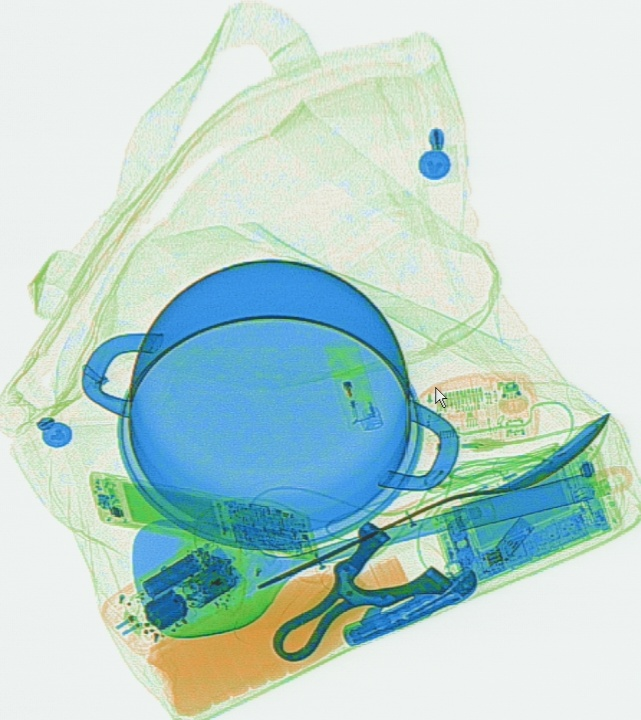knife: (375, 435, 611, 593), (339, 565, 477, 645)
lighter: (325, 327, 383, 432)
slingshot: (270, 520, 452, 662)
